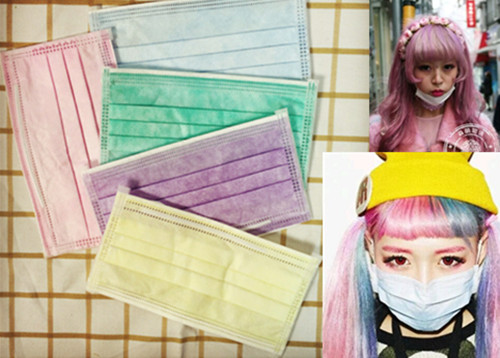face: (414, 48, 456, 99)
face_mask: (373, 214, 475, 322)
